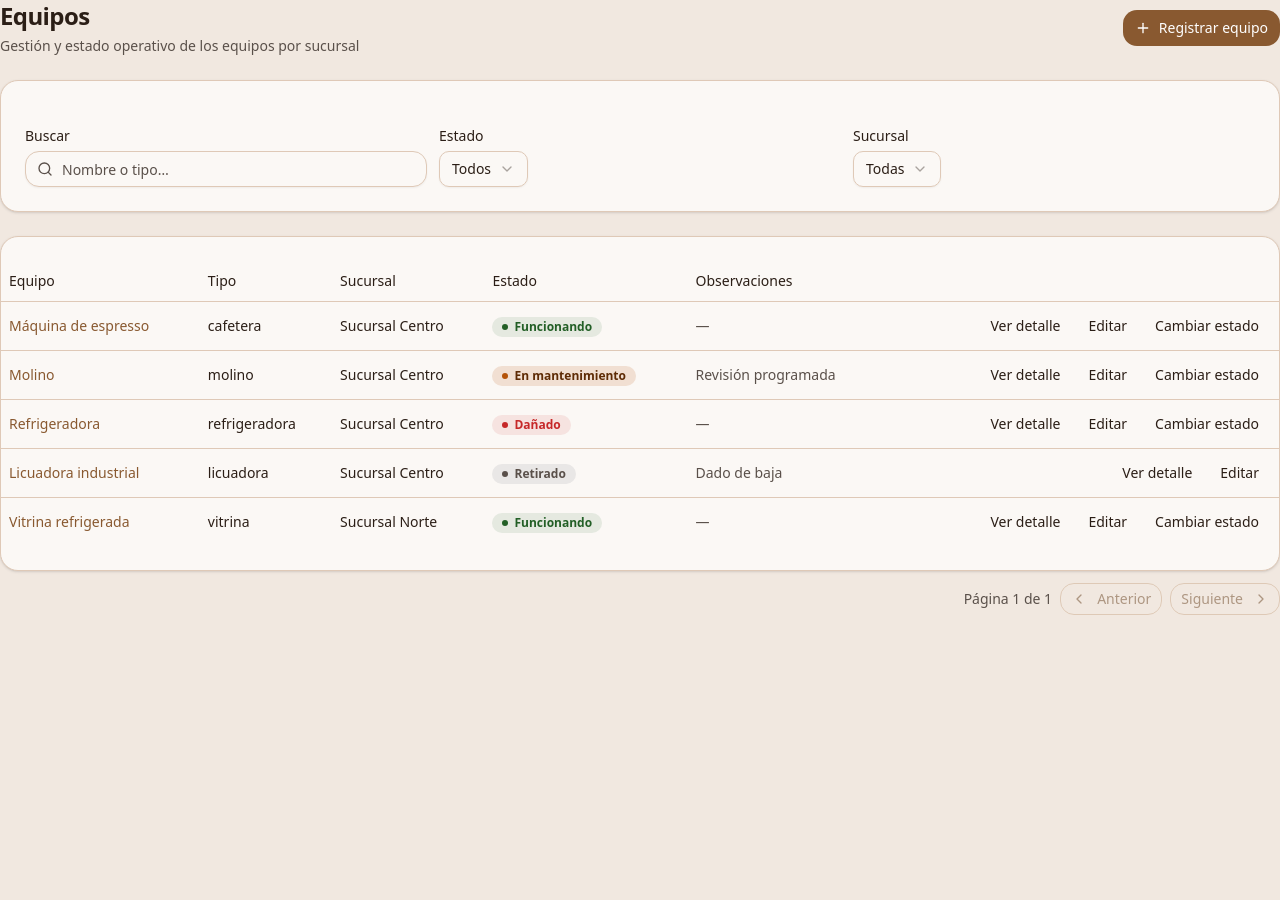
it: Gestión de equipos › el Admin registra un equipo eligiendo la sucursal
Expected: the link "Máquina de espresso" is shown, [9, 316, 149, 334]
Click the button "Registrar equipo": (1201,28) [1123, 10, 1279, 46]
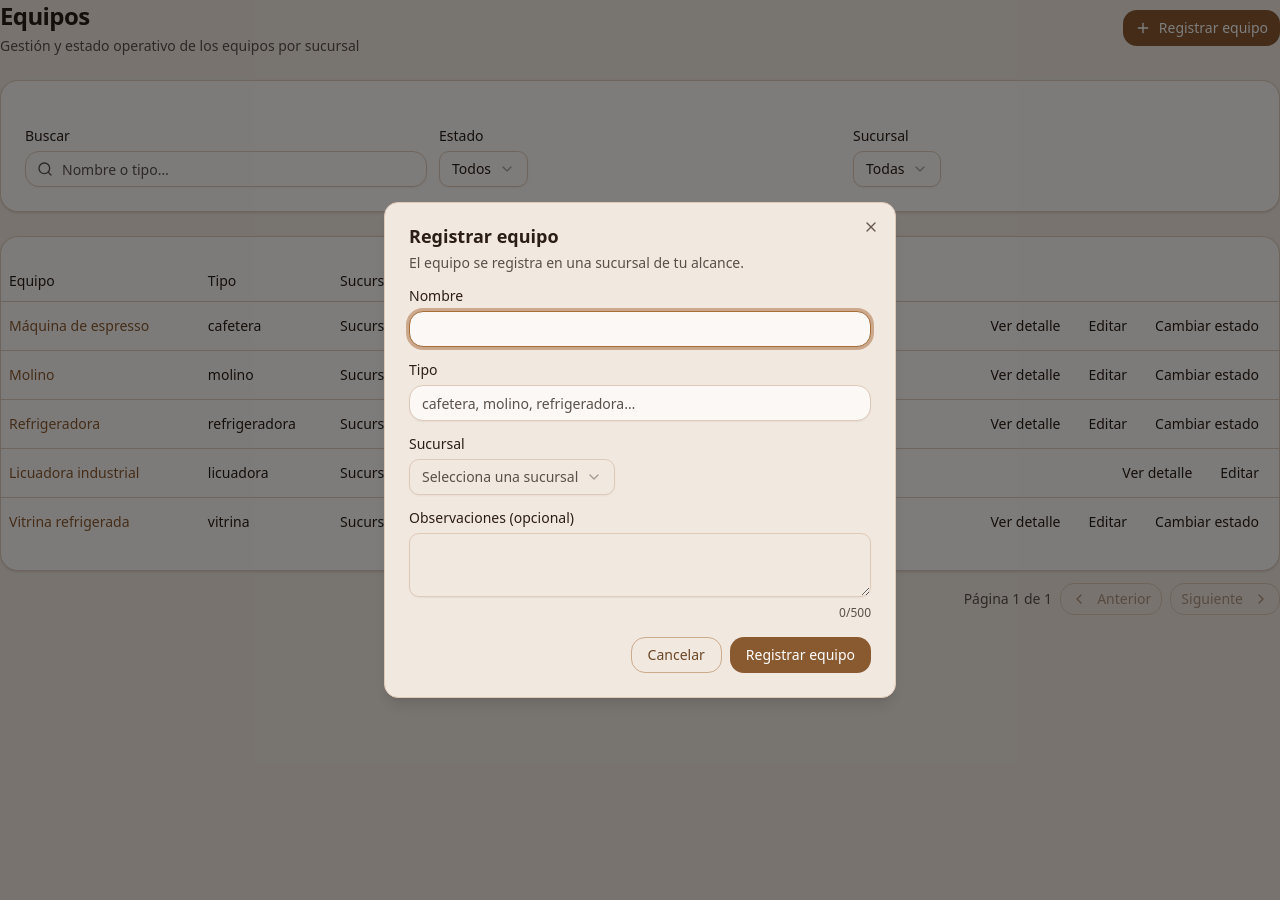
In the field labelled "Nombre": (640,329) [409, 311, 871, 347], type "Tostadora Giesen"
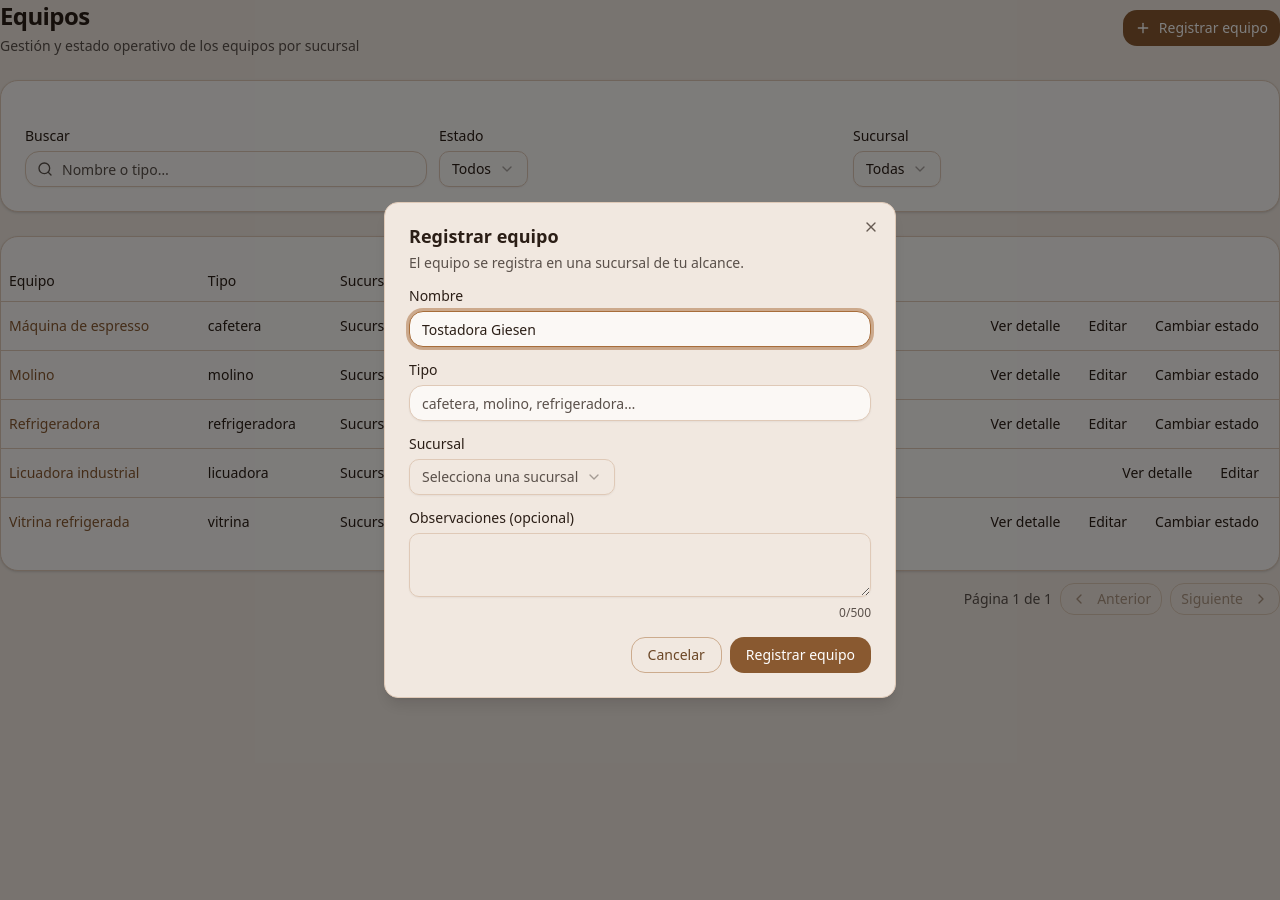
In the field labelled "Tipo": (640,403) [409, 385, 871, 421], type "tostadora"
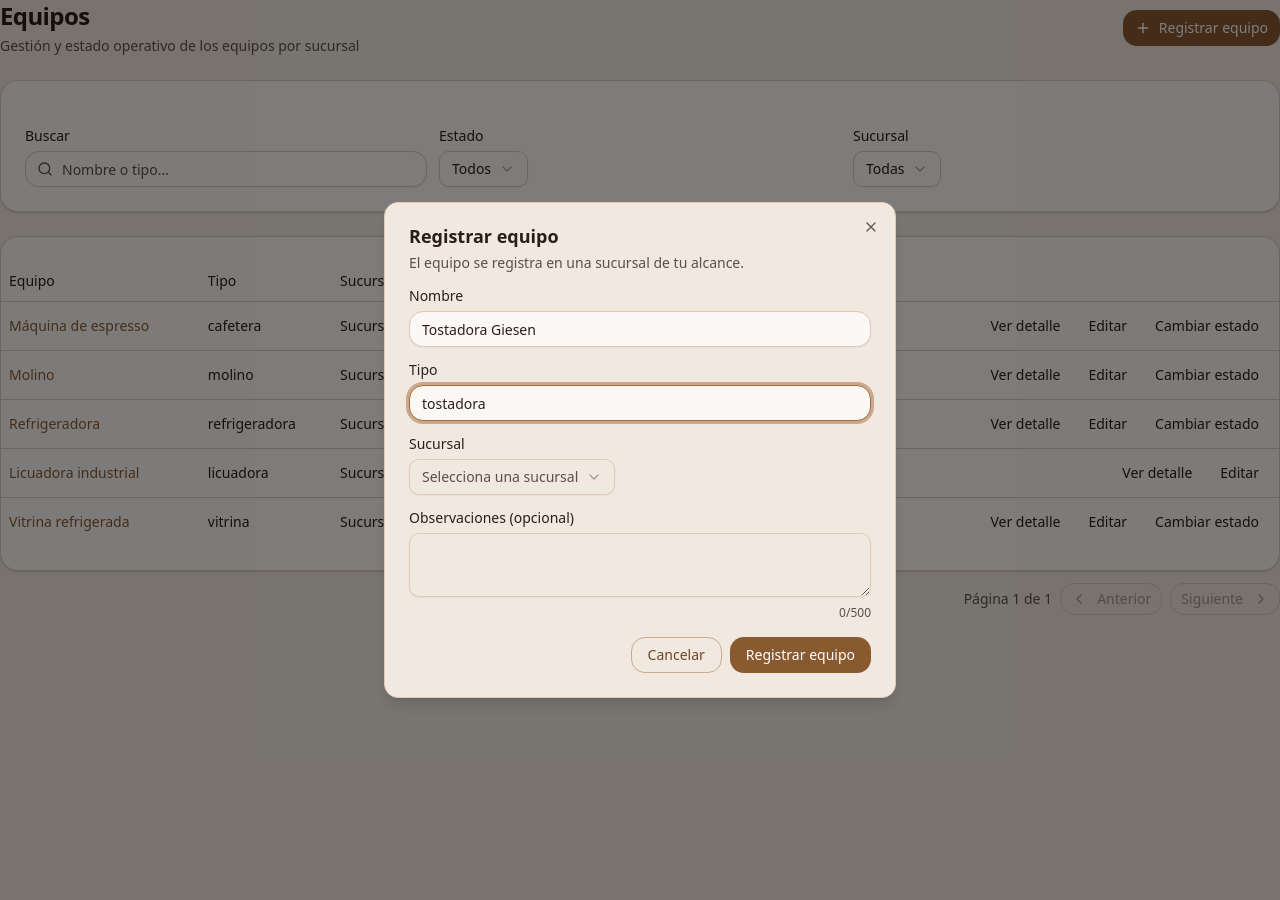
Click the dropdown labelled "sucursal": (512,477) [409, 459, 615, 495]
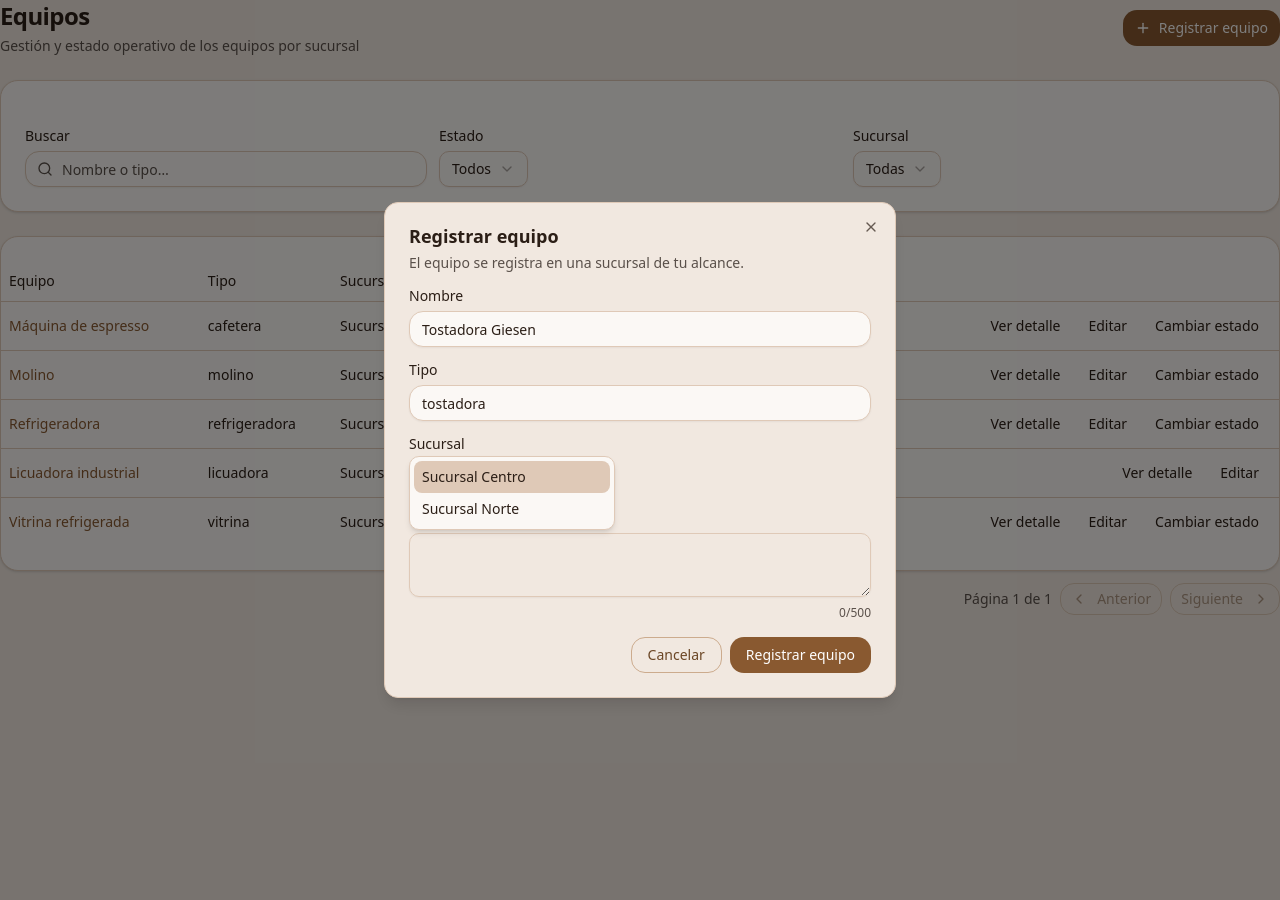
Click the option "Sucursal Norte": (471,508) [422, 499, 519, 518]
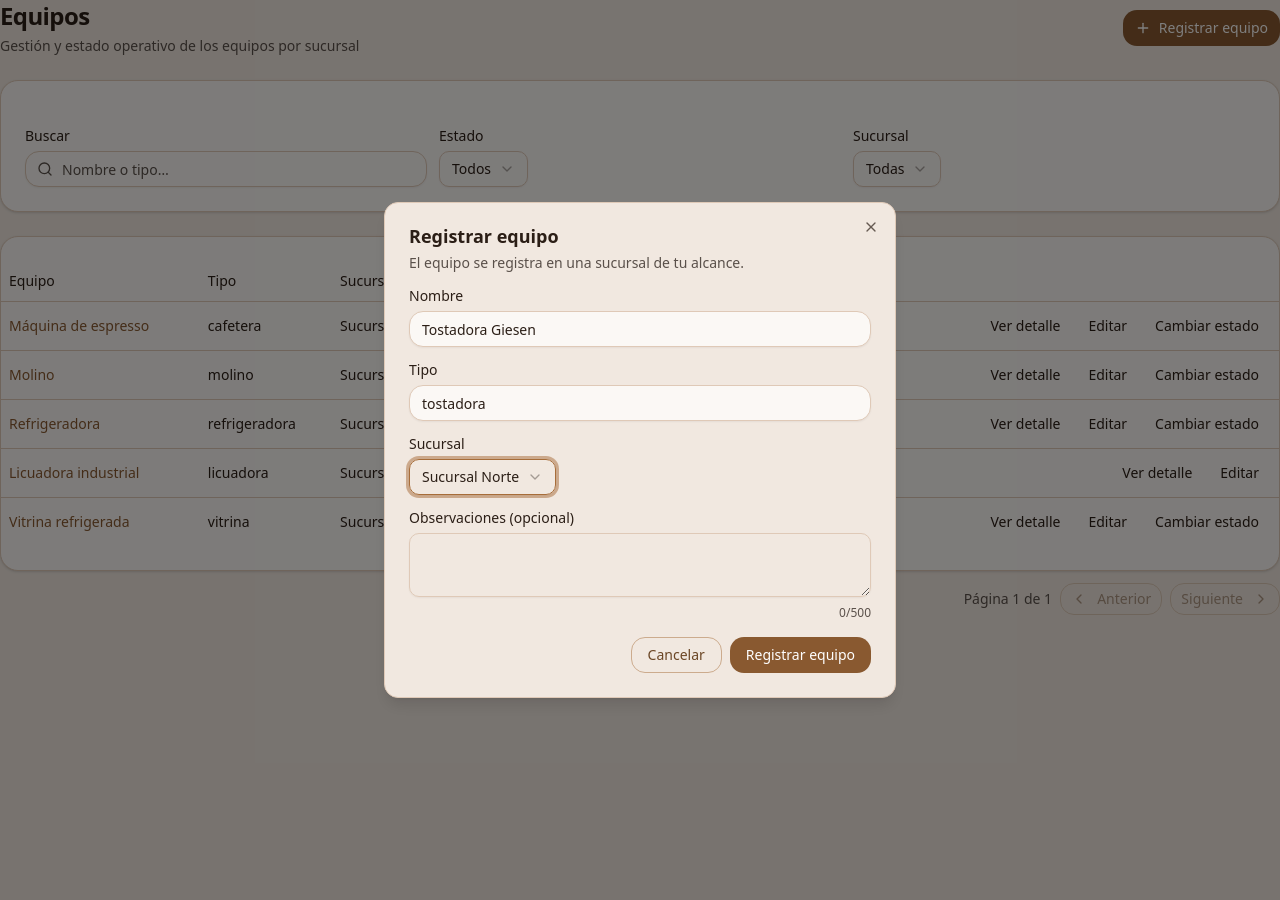
Click the button "Registrar equipo": (800,655) [730, 637, 871, 673]
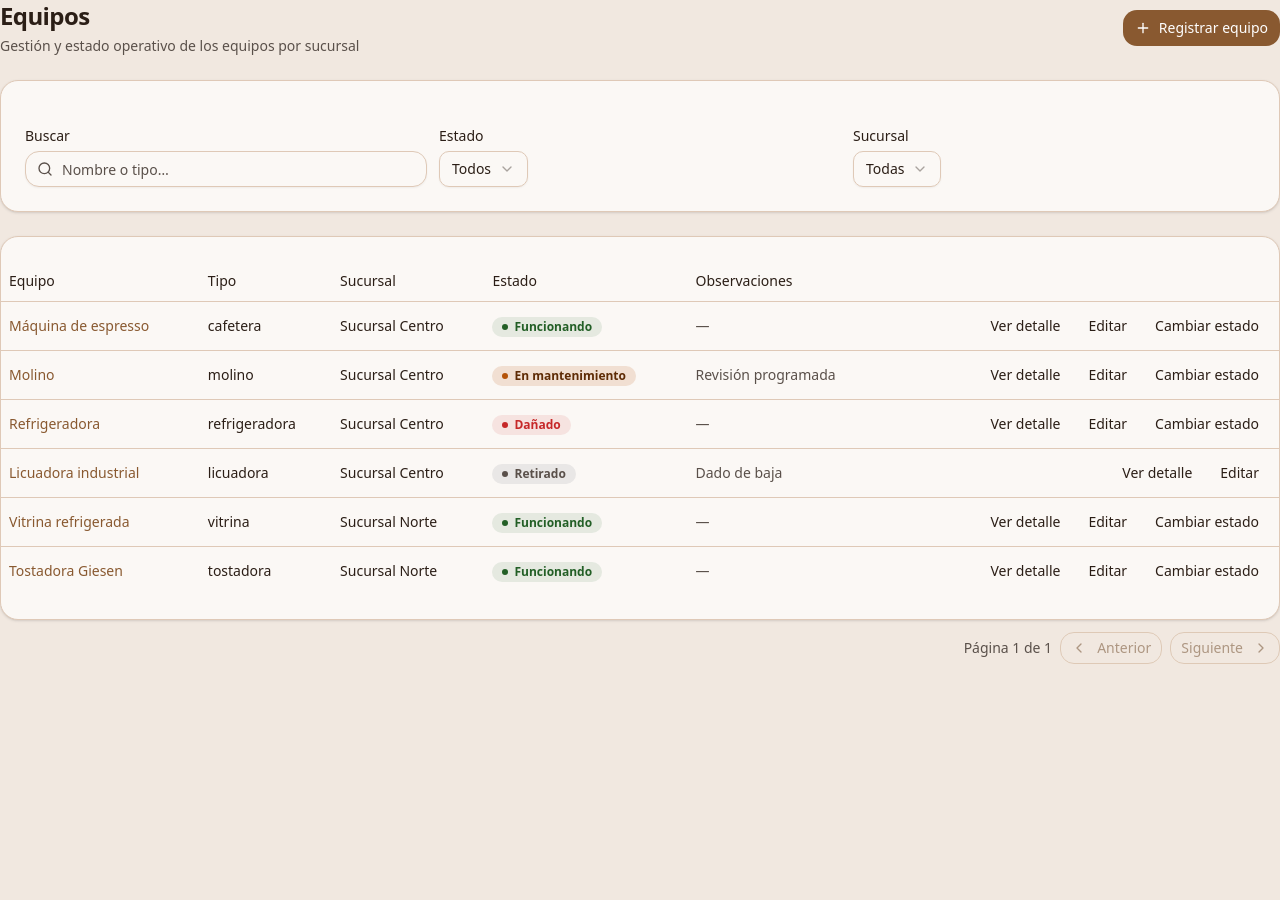
Result: the link "Tostadora Giesen" is shown at [9, 560, 123, 580]
